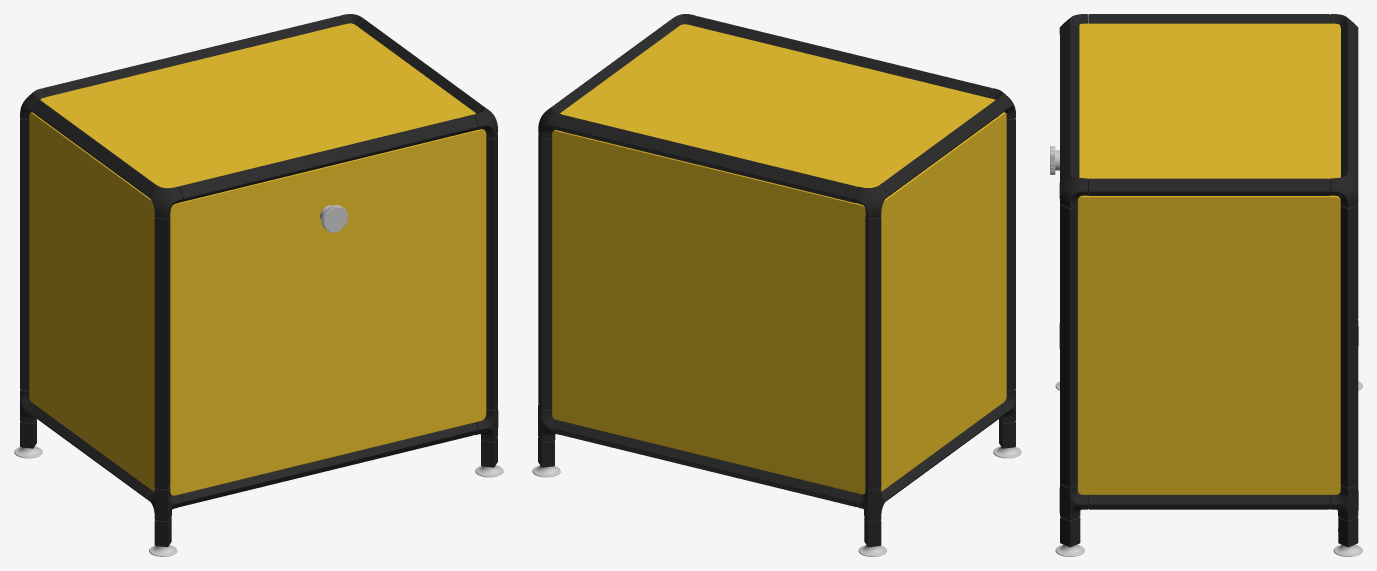
The picture shows the model from 3 angles, left to right: view 1: azimuth 30°, elevation 25°; view 2: azimuth 150°, elevation 25°; view 3: azimuth 270°, elevation 25°; orthographic projection. The views are drawn at different scales.
Visible parts, largest first — view 1: 479x329x420; view 2: 479x329x420; view 3: 479x329x420.
Part boxes in pixels (x1=…): 479x329x420: x1=14, y1=14, x2=503, y2=556; 479x329x420: x1=532, y1=14, x2=1021, y2=556; 479x329x420: x1=1050, y1=14, x2=1362, y2=556.
Bounding box in the file's own units: 0.5689 × 0.5593 × 0.4257.
